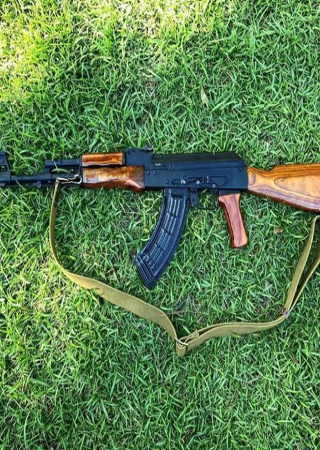rifle: (2, 135, 320, 287)
